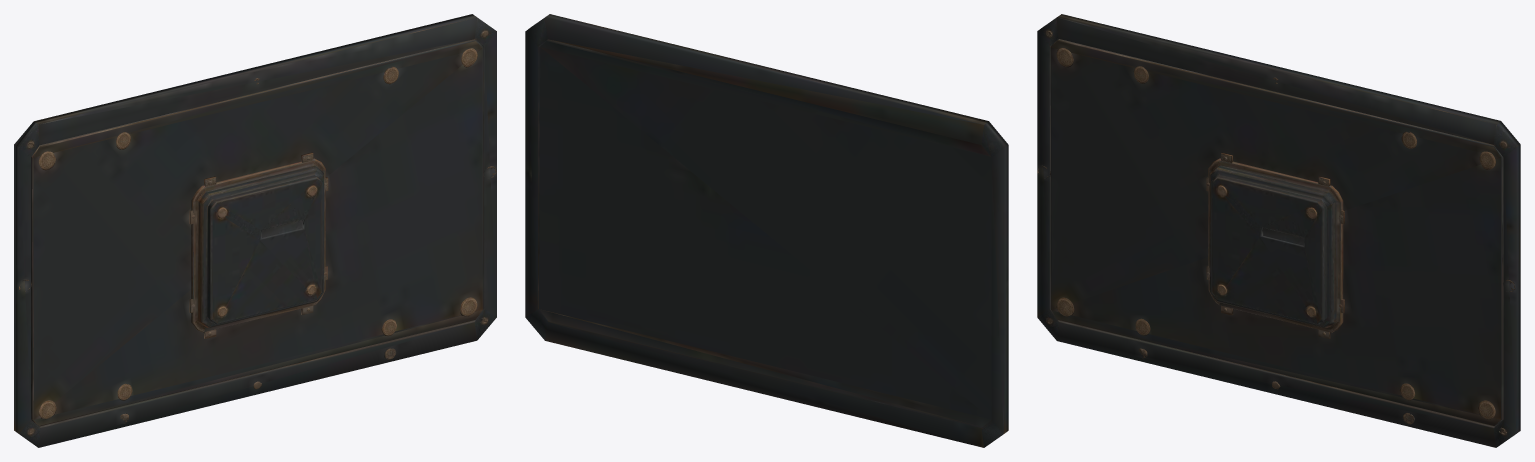
File: wall-panel.glb
3 renders of one model, left to right at view 1: azimuth 30°, elevation 25°; view 2: azimuth 150°, elevation 25°; view 3: azimuth 330°, elevation 25°, orthographic.
Bounding box in the file's own units: 1 × 0.6463 × 0.053.
Materials: 1 (1 with a texture image).
